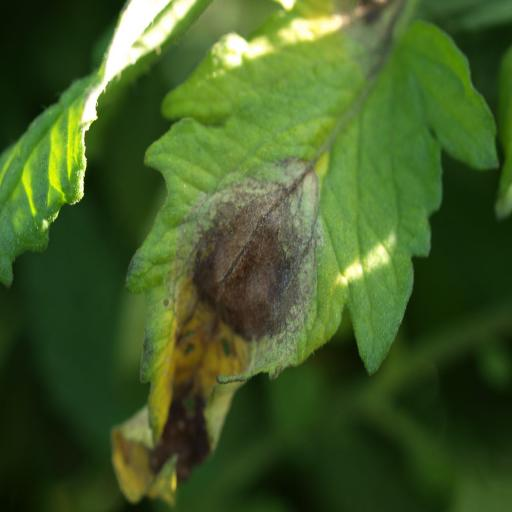disease_tomato: (110, 20, 504, 508)
